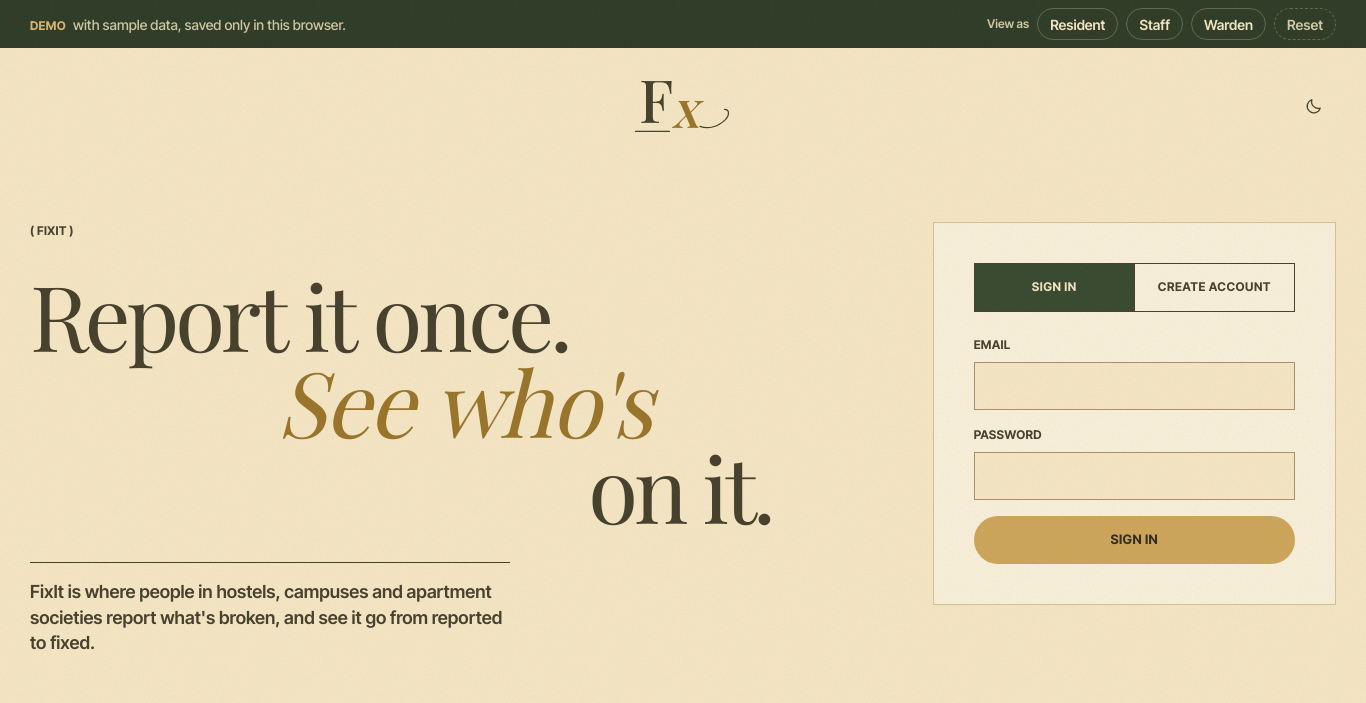
it: demo bar › switches the whole app to the chosen role in one tap
Click the button "Warden": click(1228, 24) 1191,8 -> 1266,40
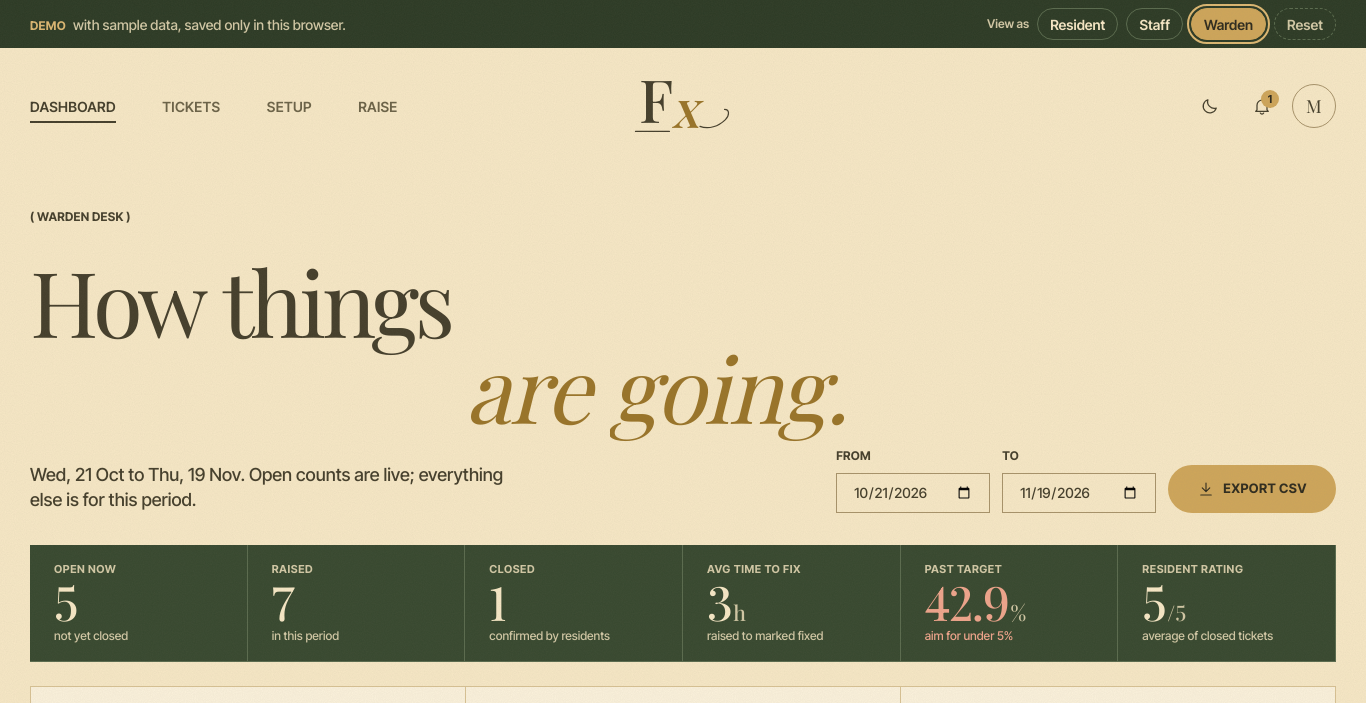
Expected: the heading "How things are going." is shown, 30,240 -> 847,448
Click the button "Resident": click(1078, 24) 1037,8 -> 1118,40
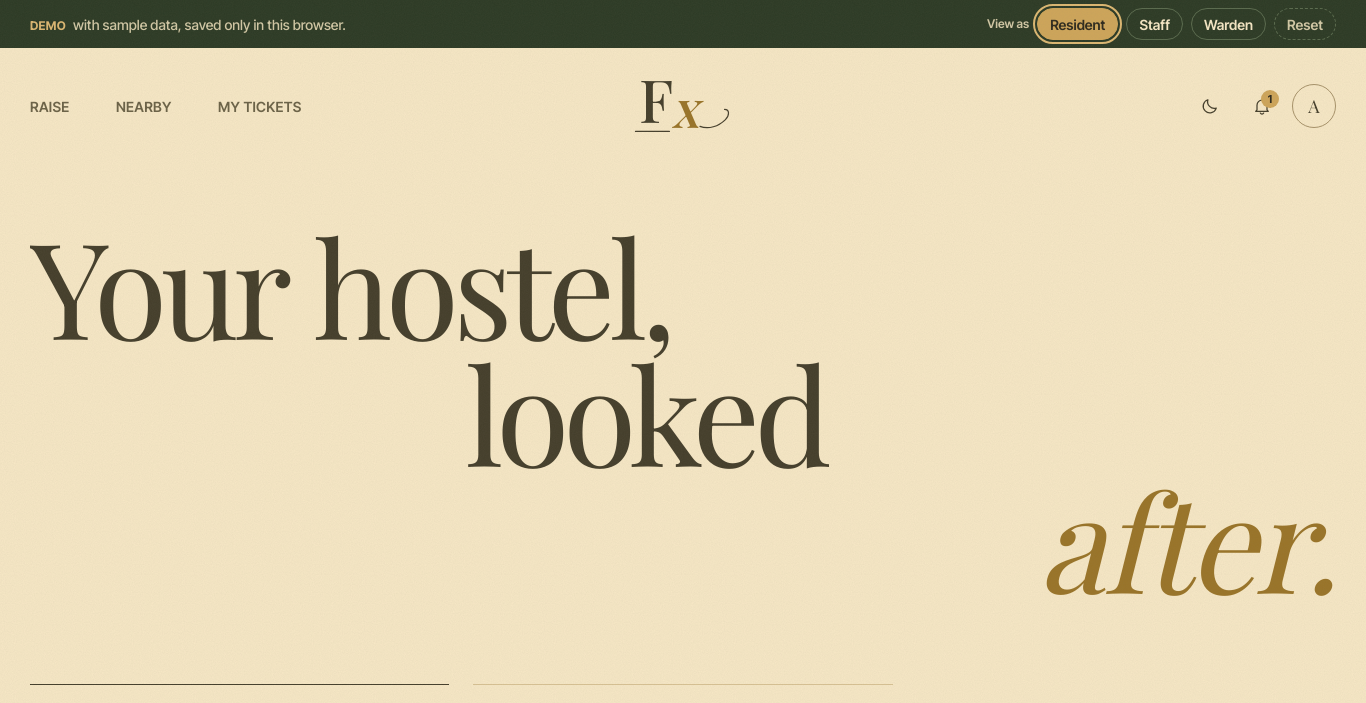
Expected: the heading "Your hostel, looked after." is shown, 30,222 -> 1336,602
